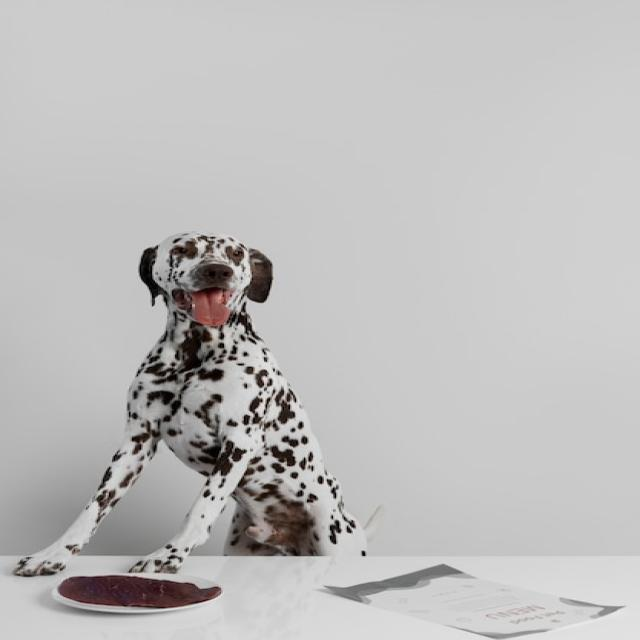Dog: (13, 232, 386, 578)
